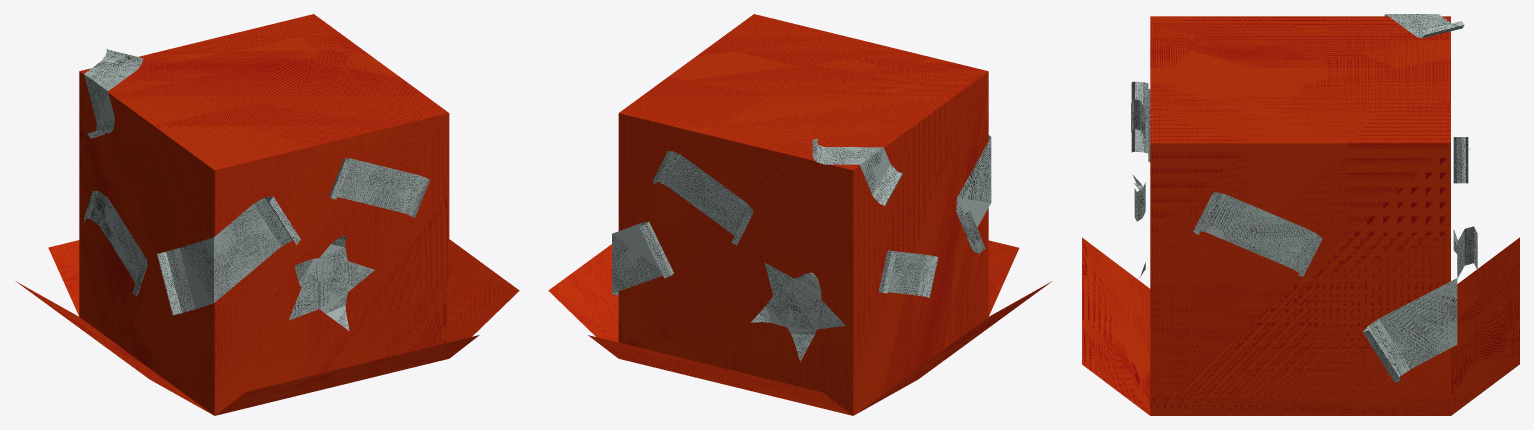
The picture shows the model from 3 angles, left to right: view 1: azimuth 30°, elevation 25°; view 2: azimuth 150°, elevation 25°; view 3: azimuth 270°, elevation 25°; orthographic projection. The views are drawn at different scales.
Parts seen in each view (by area): view 1: Box001, Box_inside, stickers, stickers_inside; view 2: Box001, Box_inside, stickers, stickers_inside; view 3: Box001, Box_inside, stickers, stickers_inside.
Part boxes in pixels (x1,y1,x2,y2): Box001: (15, 14, 519, 415); Box_inside: (24, 14, 517, 415); stickers: (84, 49, 429, 330); stickers_inside: (84, 50, 429, 329); Box001: (548, 14, 1052, 415); Box_inside: (549, 14, 1045, 413); stickers: (612, 135, 991, 361); stickers_inside: (612, 140, 991, 360); Box001: (1082, 16, 1519, 415); Box_inside: (1082, 17, 1519, 415); stickers: (1131, 14, 1477, 382); stickers_inside: (1131, 14, 1477, 380).
Size of the model in its own units: 4731 by 3131 by 4369.
